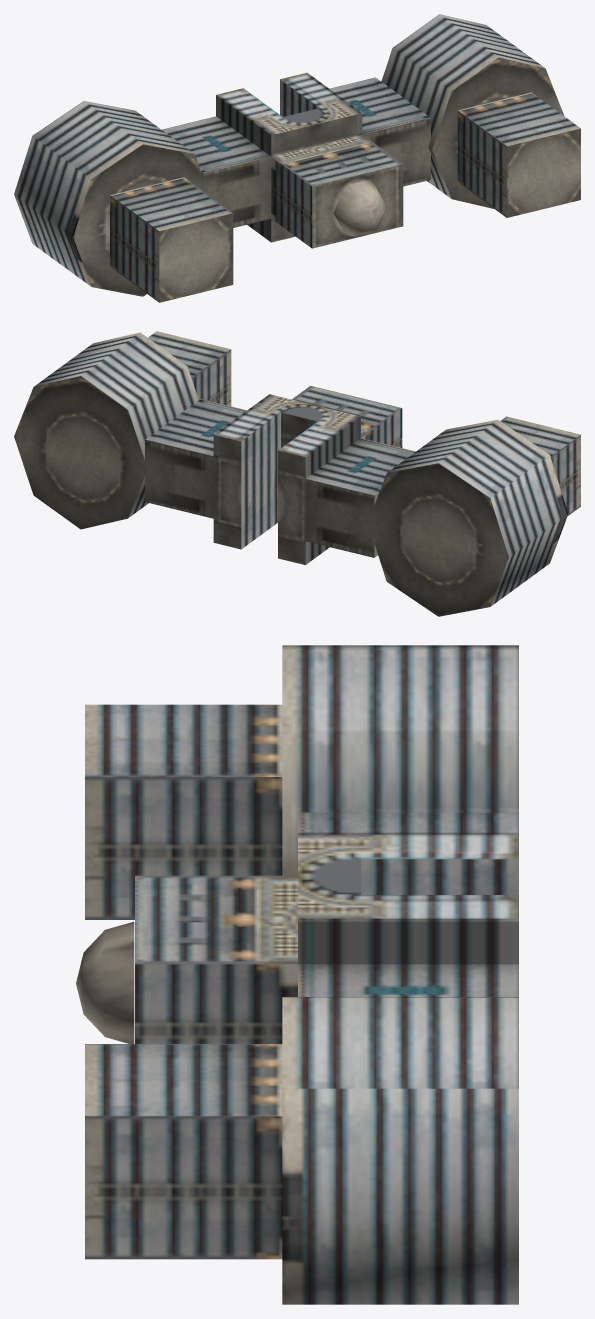
File: wall_gate_lod.fbx
3 renders of one model, top to bottom at view 1: azimuth 30°, elevation 25°; view 2: azimuth 150°, elevation 25°; view 3: azimuth 270°, elevation 25°, orthographic. The views are drawn at different scales.
Visible parts, largest first — view 1: object; view 2: object; view 3: object.
Part boxes in pixels (x1,y1,x2,y2): object: (14,14,580,302); object: (14,331,580,616); object: (76,645,518,1304).
Size of the model in its own units: 4.32 by 1.28 by 1.68.
